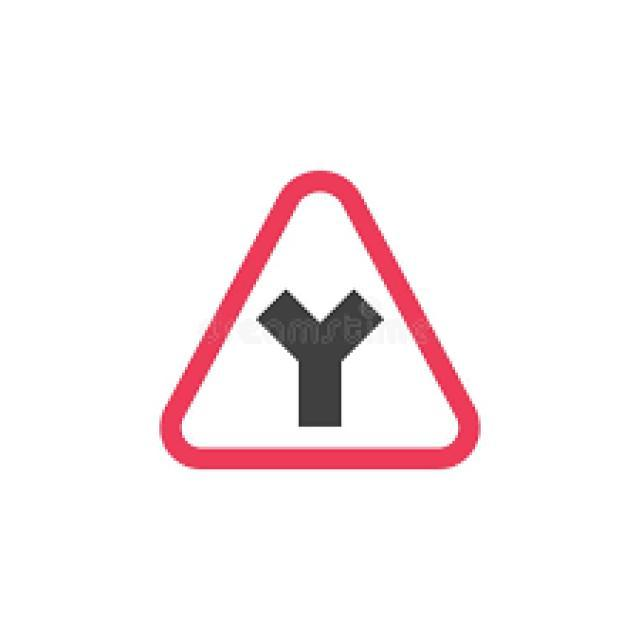y intersection: (162, 171, 482, 471)
